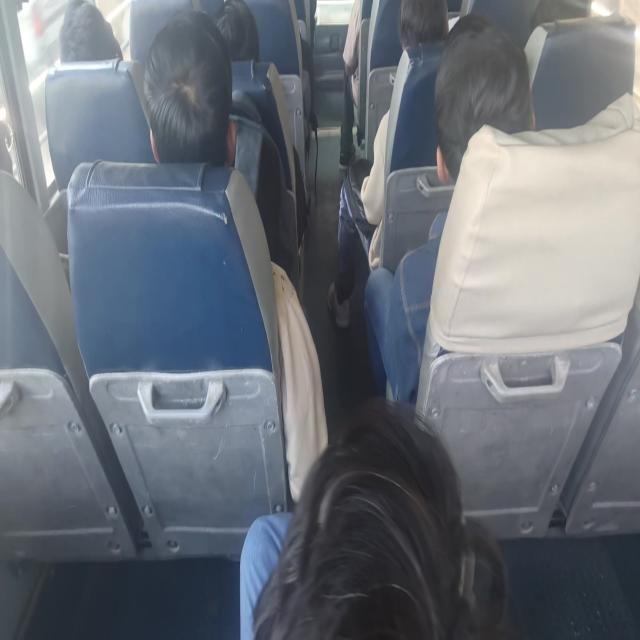person: (142, 9, 328, 502), (363, 12, 536, 404), (239, 397, 498, 638), (326, 0, 448, 329), (142, 9, 237, 166), (58, 0, 124, 63), (338, 0, 362, 170), (213, 0, 260, 61), (397, 0, 449, 52)
